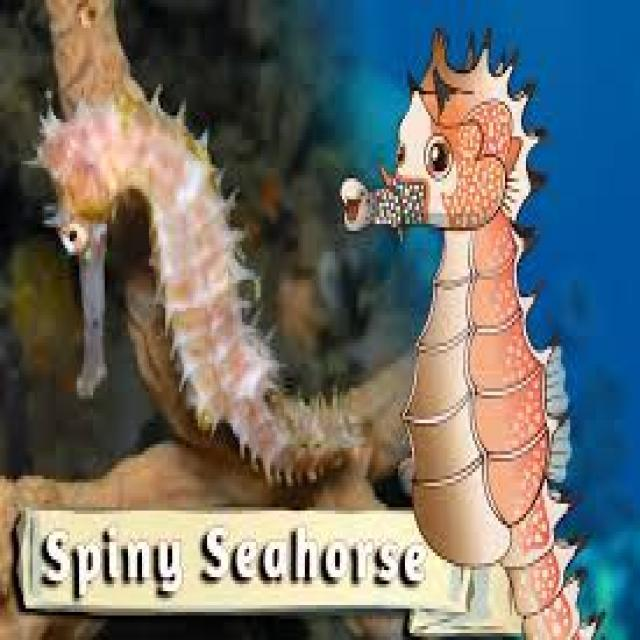SeaHorse: (39, 94, 414, 487)
